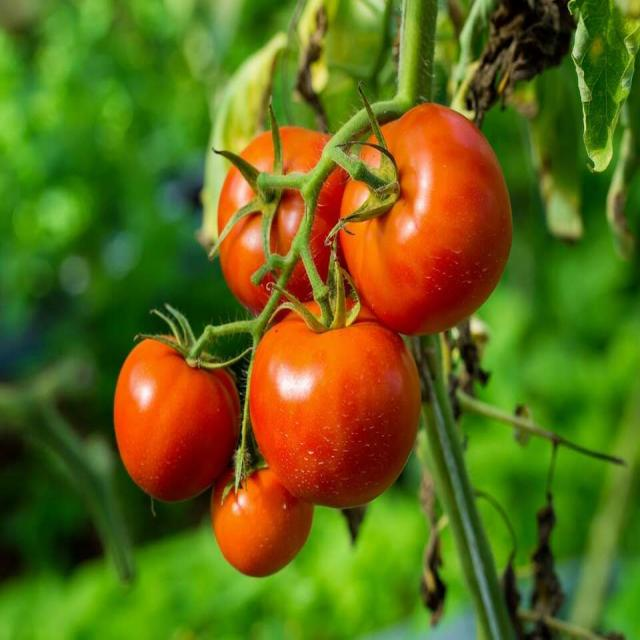level 6: (339, 104, 515, 336), (248, 297, 422, 506), (218, 126, 373, 325), (114, 339, 241, 501), (214, 450, 314, 576)
